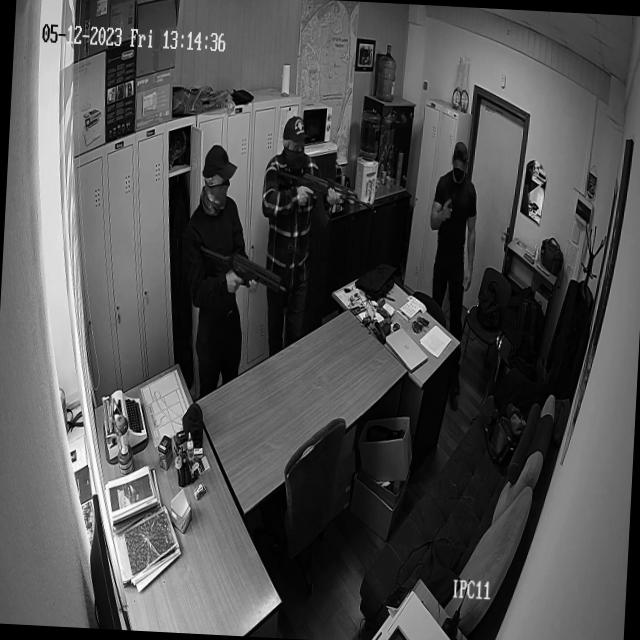gun: (276, 162, 378, 222), (198, 237, 290, 296)
person: (427, 142, 487, 354)
person with a gun: (178, 144, 252, 381), (258, 114, 320, 338)
